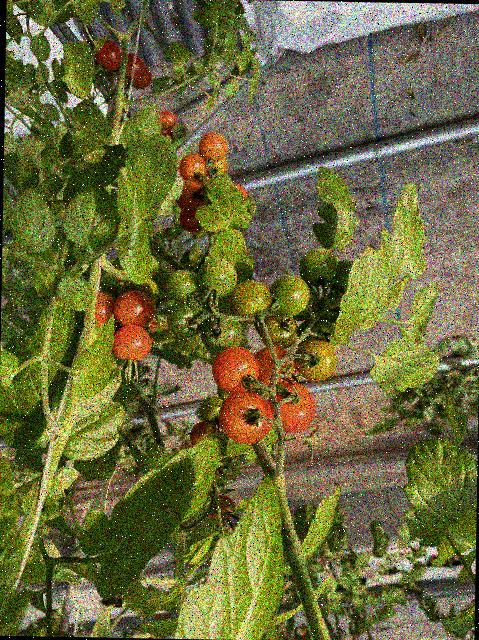l_fully_ripened: (216, 391, 274, 445), (266, 381, 315, 433), (210, 346, 258, 395), (112, 290, 153, 326), (111, 324, 150, 361), (174, 180, 206, 210), (92, 40, 121, 71), (177, 205, 202, 233), (125, 65, 150, 90), (124, 53, 144, 80)
l_green: (267, 275, 309, 317), (198, 312, 241, 353), (195, 257, 235, 299), (297, 248, 338, 287), (295, 317, 340, 351), (165, 300, 202, 338), (164, 269, 201, 303), (313, 292, 343, 327), (291, 284, 318, 321), (327, 260, 353, 295), (99, 269, 127, 297), (198, 396, 224, 422)
l_half_ripened: (226, 279, 271, 325), (252, 346, 296, 393), (292, 340, 337, 382), (256, 310, 297, 349), (197, 132, 228, 163), (177, 153, 207, 182), (115, 280, 153, 302), (207, 496, 235, 524), (187, 421, 216, 446), (93, 293, 114, 323), (205, 157, 226, 179)
